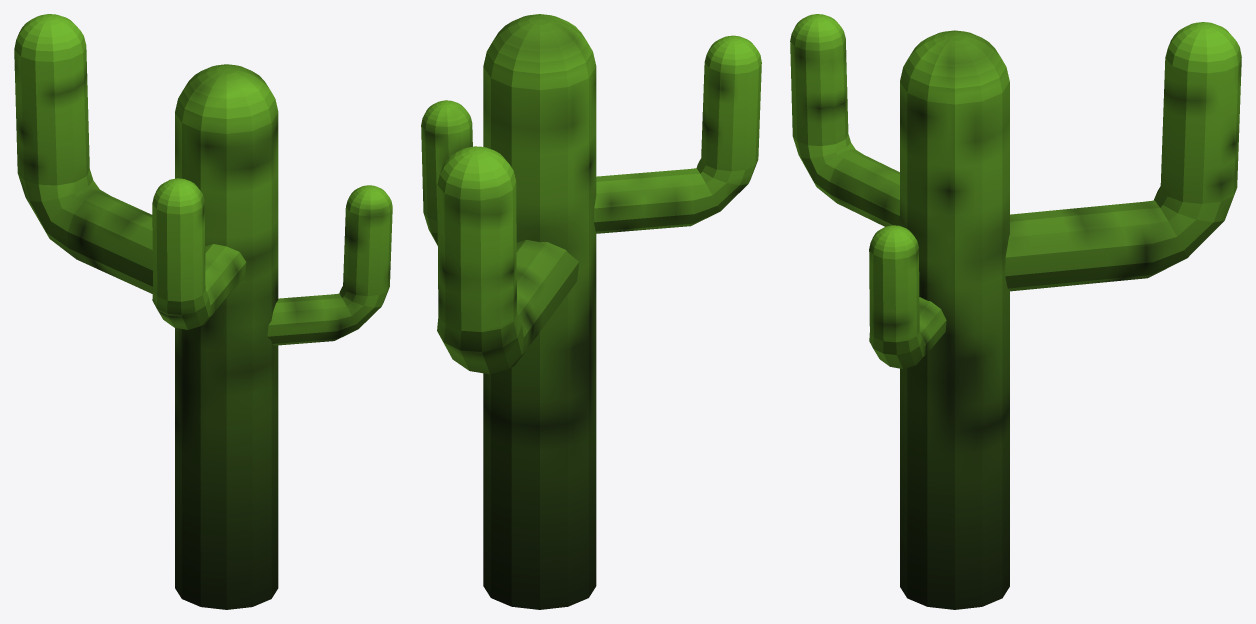
Rendered from cactus.fbx.
The picture shows the model from 3 angles, left to right: view 1: azimuth 30°, elevation 25°; view 2: azimuth 150°, elevation 25°; view 3: azimuth 270°, elevation 25°; orthographic projection. The views are drawn at different scales.
Visible parts, largest first — view 1: Cylinder, Cylinder.001, Cylinder.002, Cylinder.003; view 2: Cylinder, Cylinder.001, Cylinder.003, Cylinder.002; view 3: Cylinder, Cylinder.001, Cylinder.003, Cylinder.002.
Boxes of the visible parts, <box> form: Cylinder: <box>175,64,278,609</box>; Cylinder.001: <box>14,14,152,293</box>; Cylinder.002: <box>267,185,392,345</box>; Cylinder.003: <box>152,178,246,329</box>; Cylinder: <box>483,14,596,609</box>; Cylinder.001: <box>437,146,579,374</box>; Cylinder.003: <box>594,35,761,233</box>; Cylinder.002: <box>421,100,472,245</box>; Cylinder: <box>900,30,1009,609</box>; Cylinder.001: <box>1005,22,1241,291</box>; Cylinder.003: <box>790,14,899,226</box>; Cylinder.002: <box>869,225,946,368</box>.
Bounding box in the file's own units: 337 × 619 × 460.
Materials: 4 (4 with a texture image).
